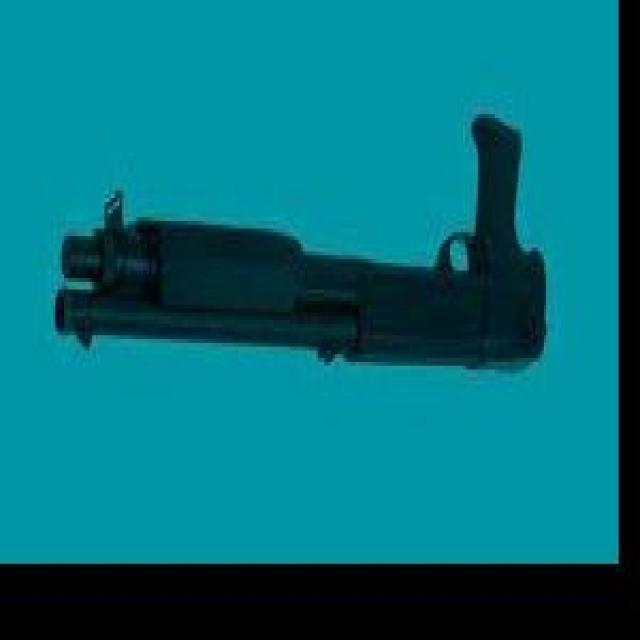weapon: (55, 115, 549, 374)
